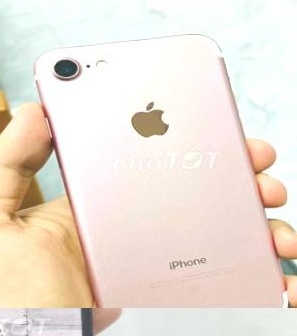scratch: (194, 296, 210, 305), (269, 299, 284, 308), (98, 301, 116, 308), (135, 275, 147, 284), (269, 266, 281, 275)
